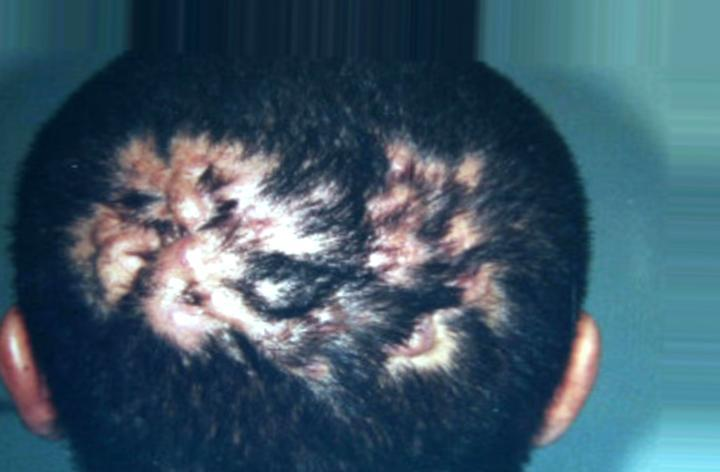Folliculitis: (83, 125, 494, 392)
